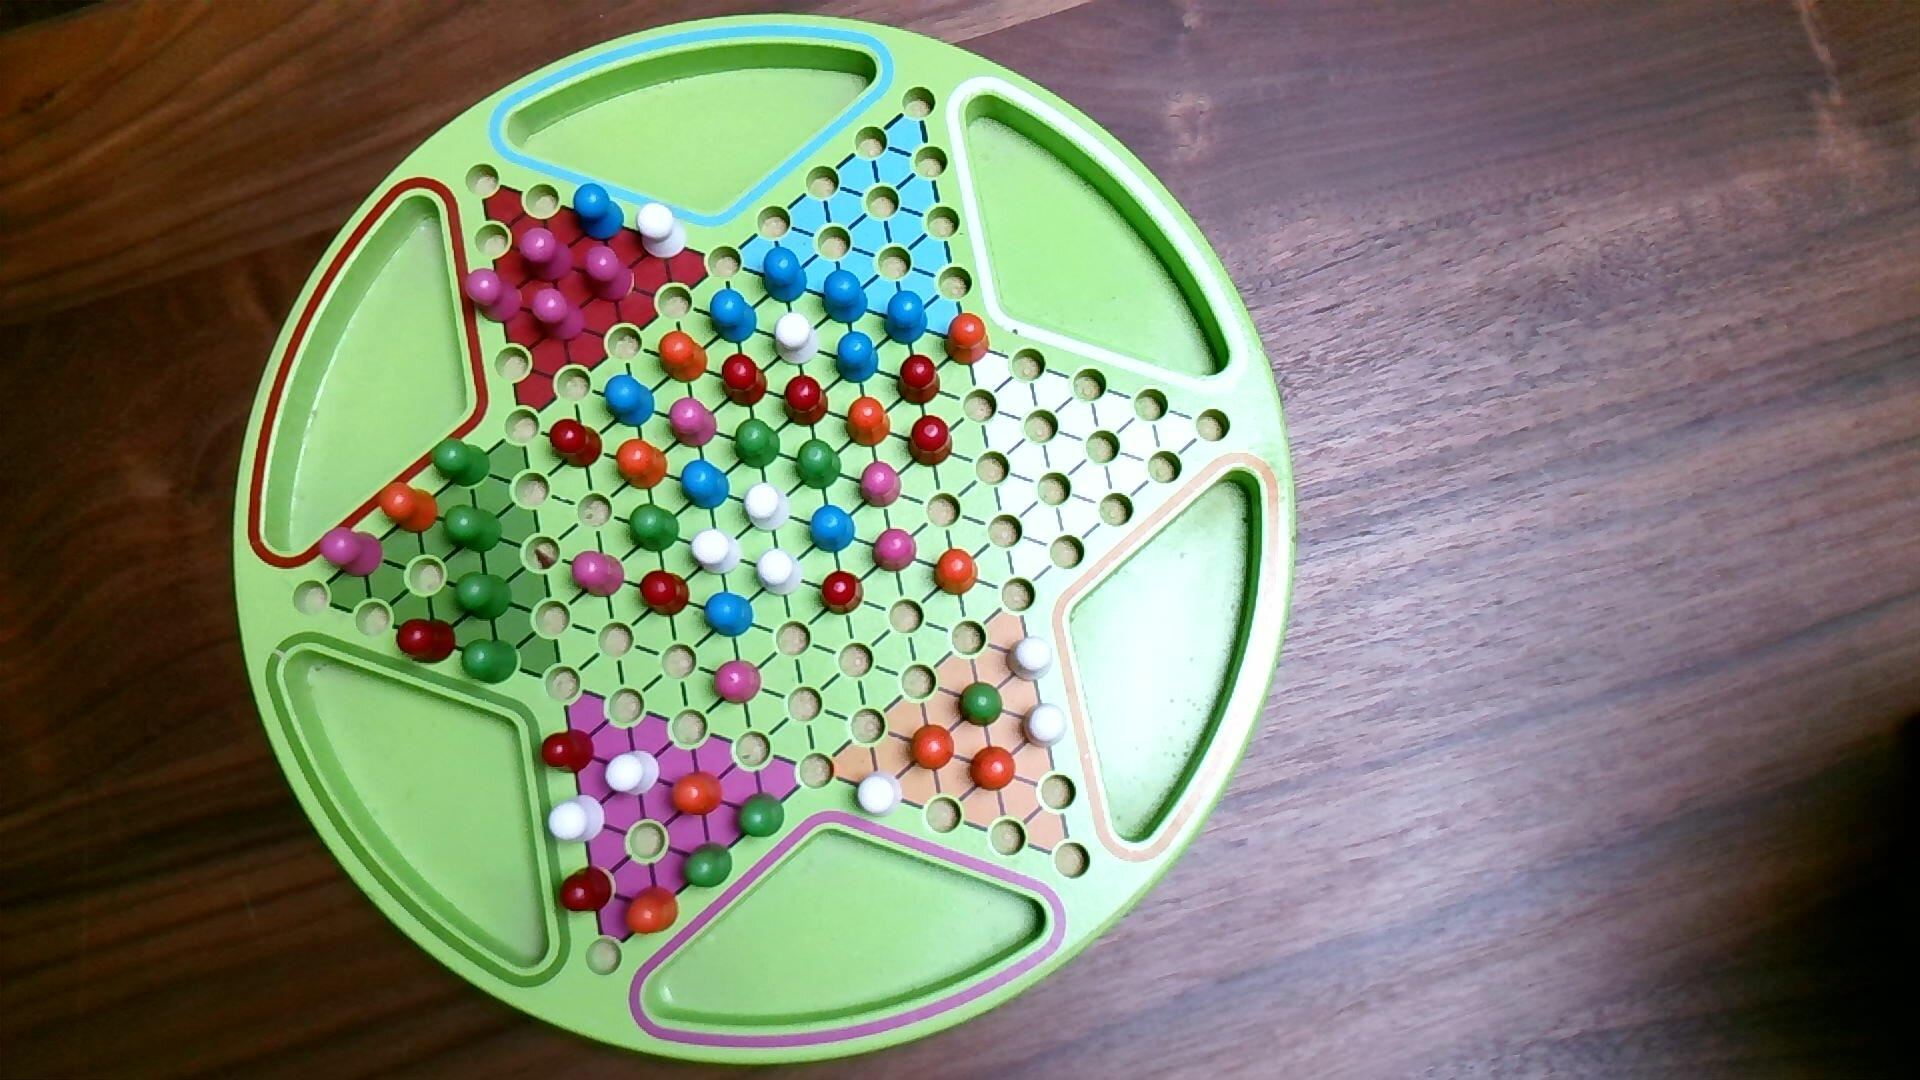B: (570, 179, 626, 243), (708, 286, 760, 347), (822, 266, 872, 327), (761, 245, 810, 307), (604, 373, 657, 430), (679, 458, 732, 512), (808, 502, 858, 556), (884, 289, 930, 347), (703, 589, 756, 640), (835, 330, 881, 386)
G: (429, 434, 493, 491), (454, 568, 516, 625), (442, 502, 505, 556), (460, 636, 522, 688), (626, 500, 682, 556), (793, 435, 844, 493), (680, 837, 735, 891), (733, 415, 783, 472), (735, 789, 787, 841), (956, 680, 1006, 731)
O: (376, 480, 440, 535), (615, 436, 671, 495), (655, 328, 711, 386), (622, 884, 682, 938), (669, 767, 727, 820), (942, 310, 993, 369), (843, 393, 893, 448), (909, 720, 957, 774), (932, 546, 981, 600), (971, 744, 1019, 793)
R: (393, 616, 459, 667), (717, 349, 770, 411), (558, 861, 615, 916), (547, 417, 605, 471), (905, 413, 956, 469), (781, 373, 832, 430), (640, 566, 692, 620), (541, 727, 597, 777), (895, 349, 943, 409), (818, 568, 866, 618)
R2: (316, 525, 386, 580), (527, 284, 589, 345), (516, 224, 579, 284), (463, 266, 526, 324), (583, 243, 637, 305), (570, 549, 628, 601), (669, 396, 720, 451), (711, 658, 764, 707), (858, 459, 905, 512), (870, 526, 919, 575)
W: (546, 791, 608, 847), (636, 199, 690, 262), (603, 746, 663, 800), (852, 767, 907, 822), (773, 309, 822, 369), (690, 526, 745, 579), (744, 479, 794, 535), (1019, 699, 1072, 752), (1004, 634, 1058, 686), (756, 546, 804, 599)
